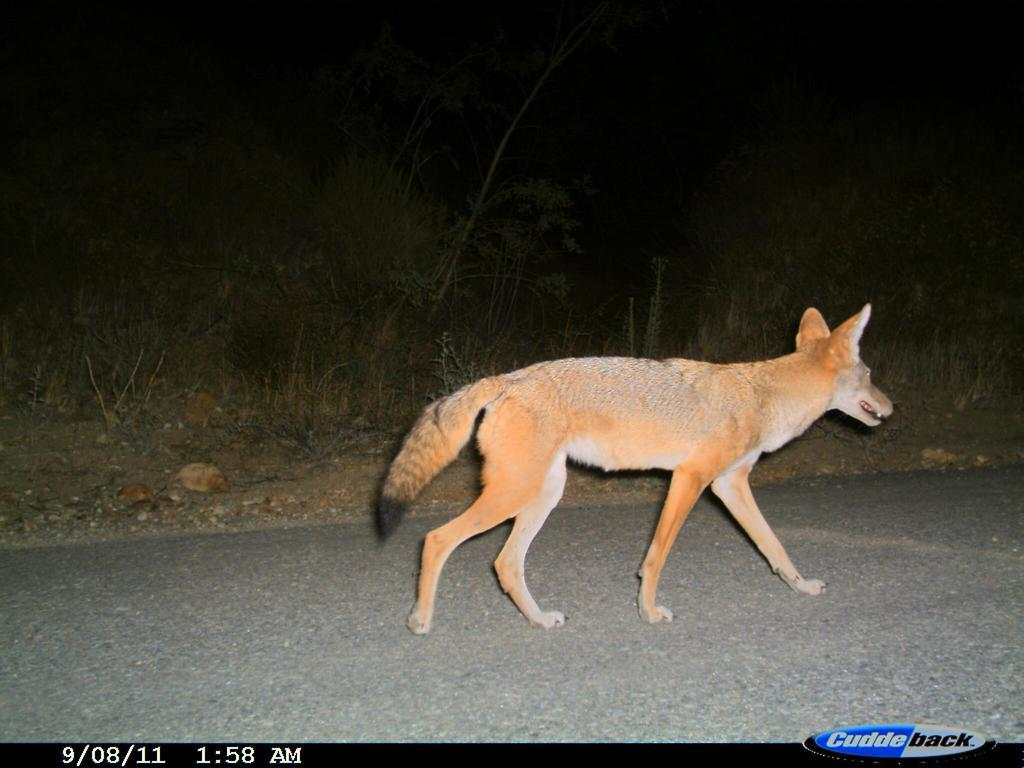coyote: (355, 289, 907, 641)
